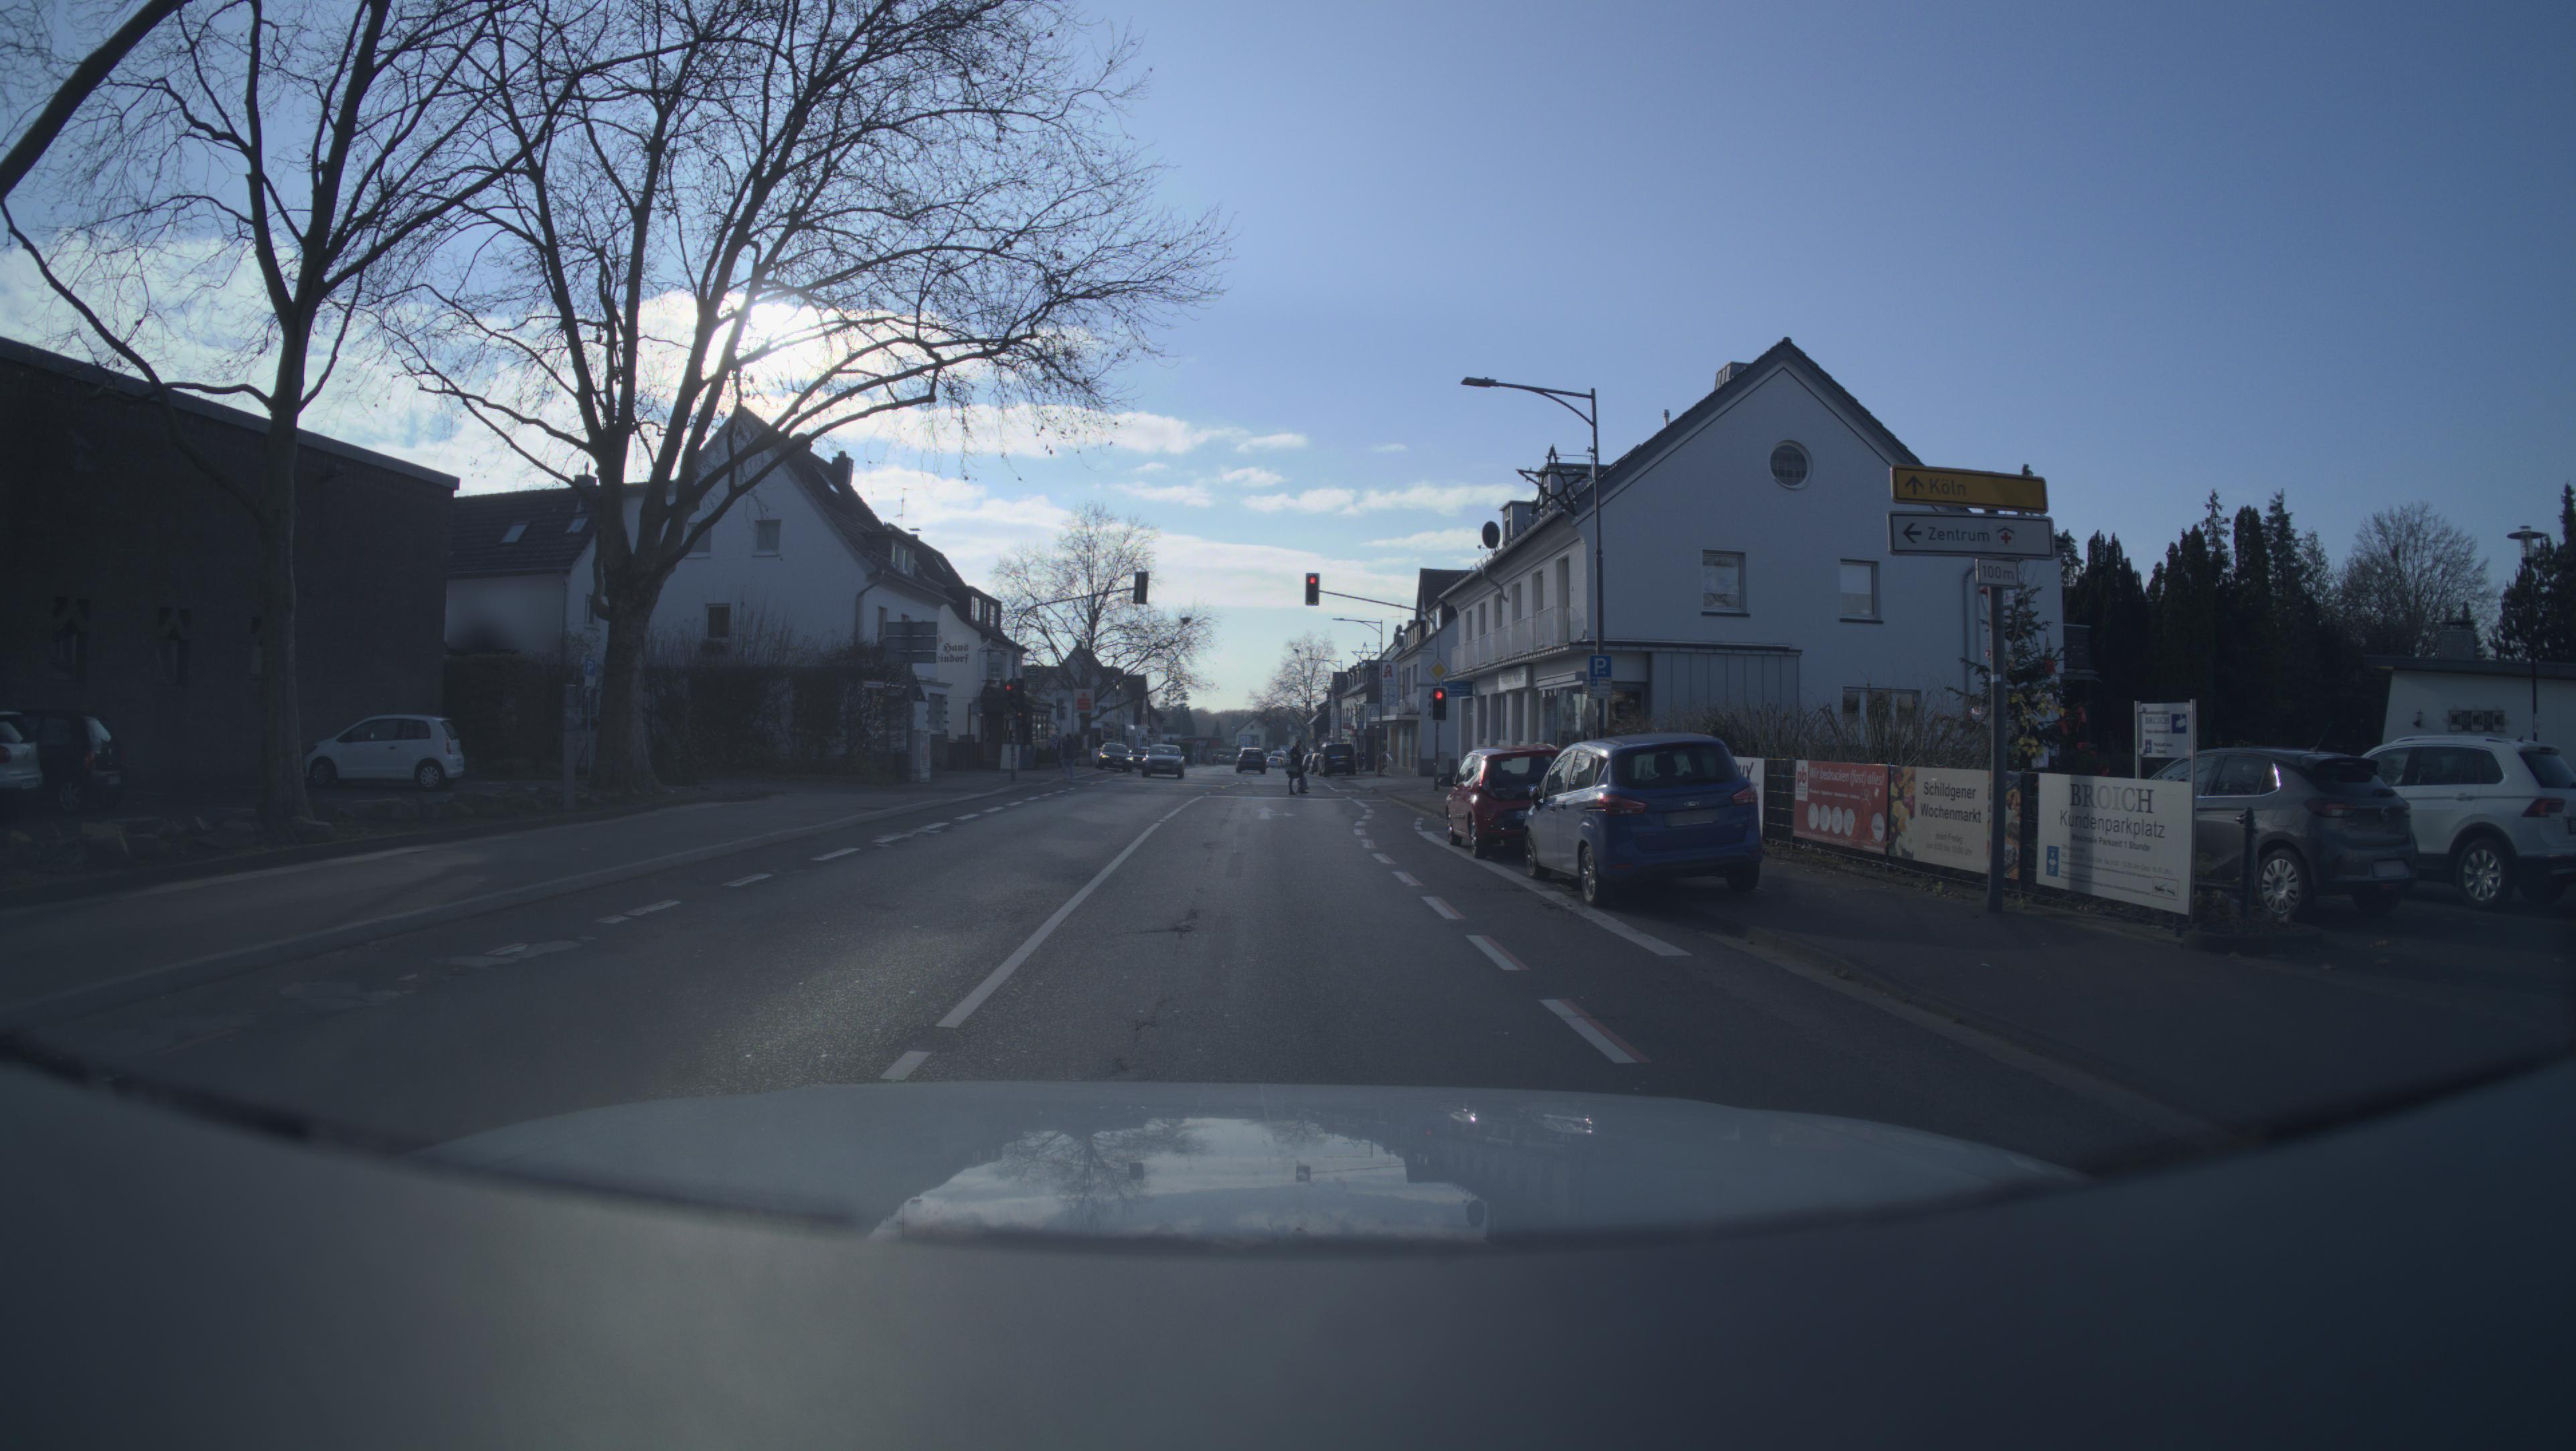red: (1431, 687, 1445, 720), (1306, 573, 1318, 605)
